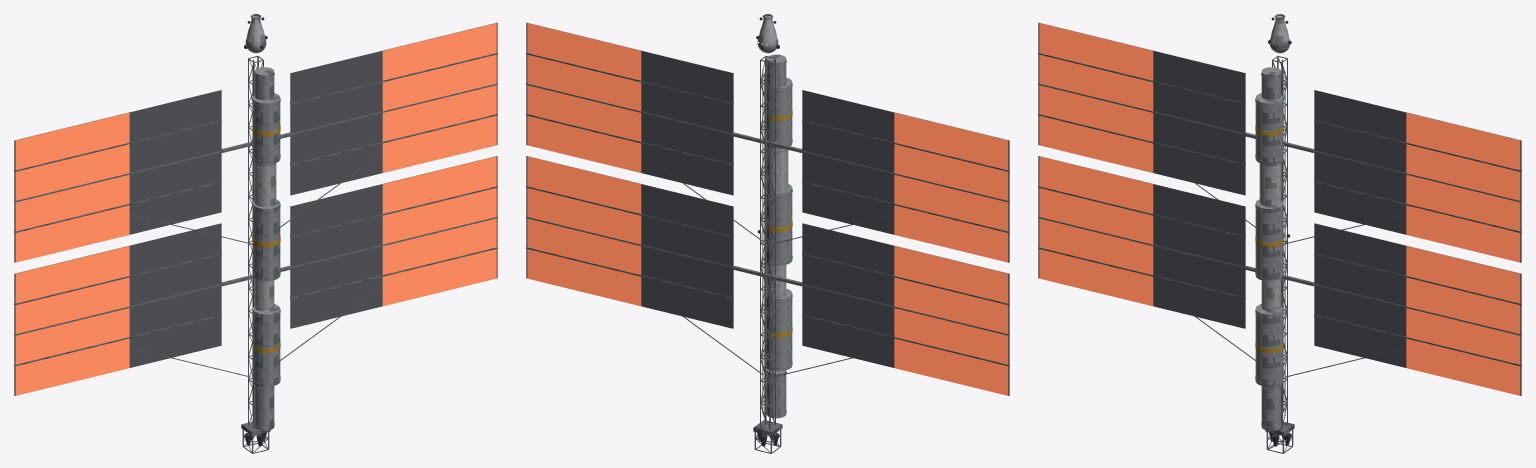
Rendered from workers_freighter.glb.
3 renders of one model, left to right at view 1: azimuth 30°, elevation 25°; view 2: azimuth 150°, elevation 25°; view 3: azimuth 330°, elevation 25°, orthographic.
Parts seen in each view (by area): view 1: WorkersFreighter_Radiators, WorkersFreighter_Hull, WorkersFreighter_Drive; view 2: WorkersFreighter_Radiators, WorkersFreighter_Hull, WorkersFreighter_Drive; view 3: WorkersFreighter_Radiators, WorkersFreighter_Hull, WorkersFreighter_Drive.
Part boxes in pixels (left/top/right/bottom): WorkersFreighter_Radiators: left=14, top=22, right=497, bottom=395; WorkersFreighter_Hull: left=244, top=14, right=280, bottom=442; WorkersFreighter_Drive: left=241, top=422, right=270, bottom=453; WorkersFreighter_Radiators: left=526, top=22, right=1009, bottom=395; WorkersFreighter_Hull: left=756, top=14, right=792, bottom=442; WorkersFreighter_Drive: left=753, top=420, right=782, bottom=453; WorkersFreighter_Radiators: left=1038, top=22, right=1521, bottom=395; WorkersFreighter_Hull: left=1255, top=14, right=1291, bottom=442; WorkersFreighter_Drive: left=1265, top=422, right=1294, bottom=453.
Bounding box in the file's own units: 182 × 156 × 15.95.
Materials: 14 (6 with a texture image).
